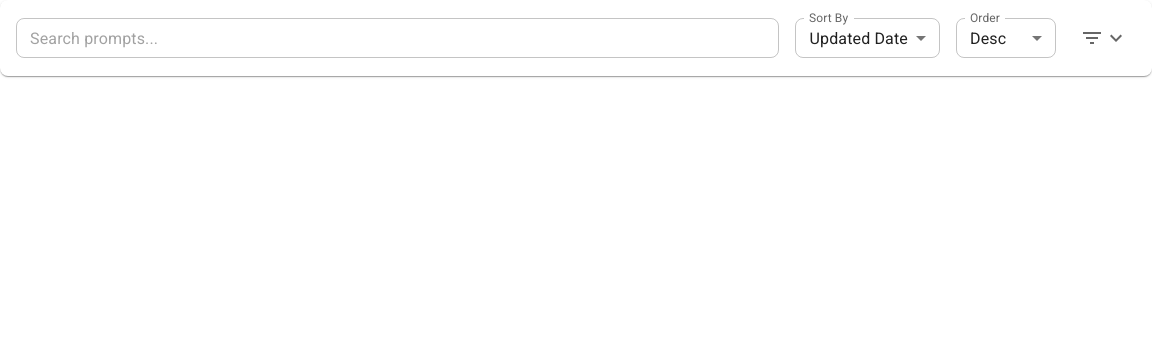
PromptFilters › expands advanced filters when filter button is clicked
The image size is (1152, 339).
Click the button with test id "FilterListIcon" at (1104, 38), box [1072,16,1136,60]
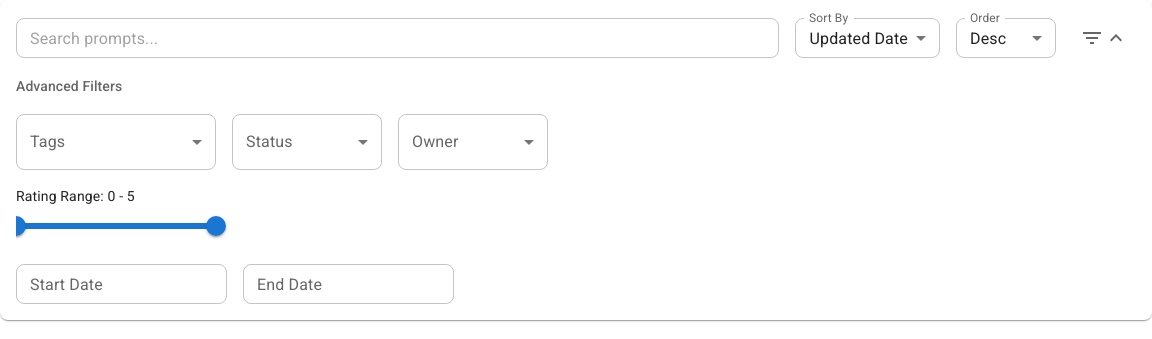
Expected: the heading "Advanced Filters" is shown, [16,78,122,94]
